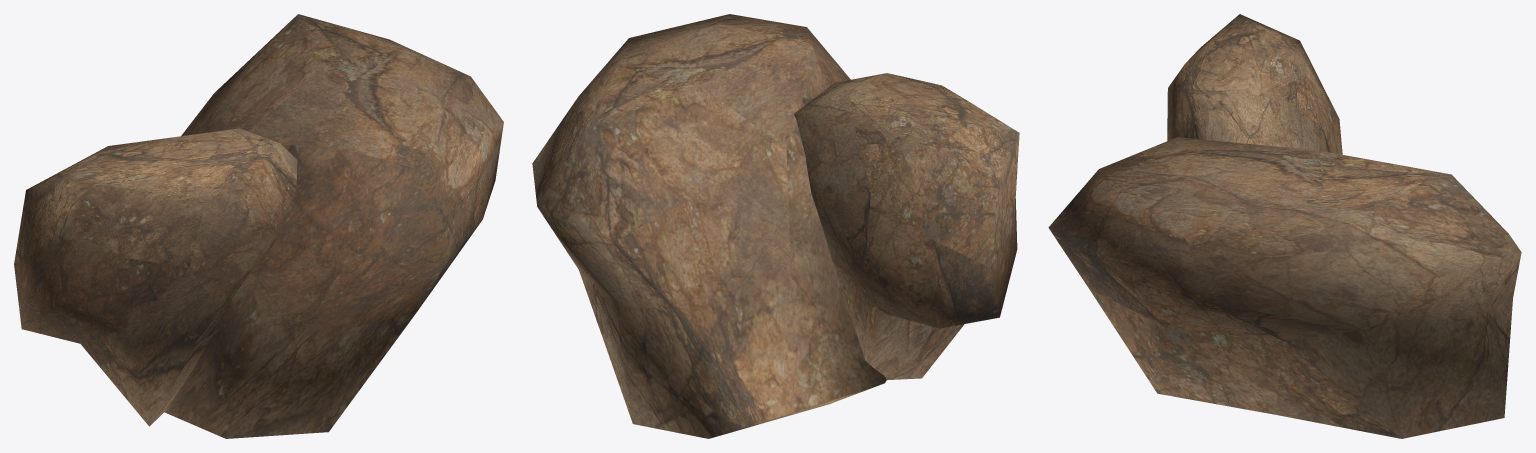
File: stone_2.glb
3 renders of one model, left to right at view 1: azimuth 30°, elevation 25°; view 2: azimuth 150°, elevation 25°; view 3: azimuth 270°, elevation 25°, orthographic. The views are drawn at different scales.
Parts seen in each view (by area): view 1: StoneB; view 2: StoneB; view 3: StoneB.
Part boxes in pixels (box(x1,y1,x2,y2)): StoneB: box(14, 14, 503, 438); StoneB: box(532, 14, 1019, 438); StoneB: box(1048, 14, 1521, 438).
Bounding box in the file's own units: 0.4588 × 0.2956 × 0.4466.
Materials: 1 (1 with a texture image).
